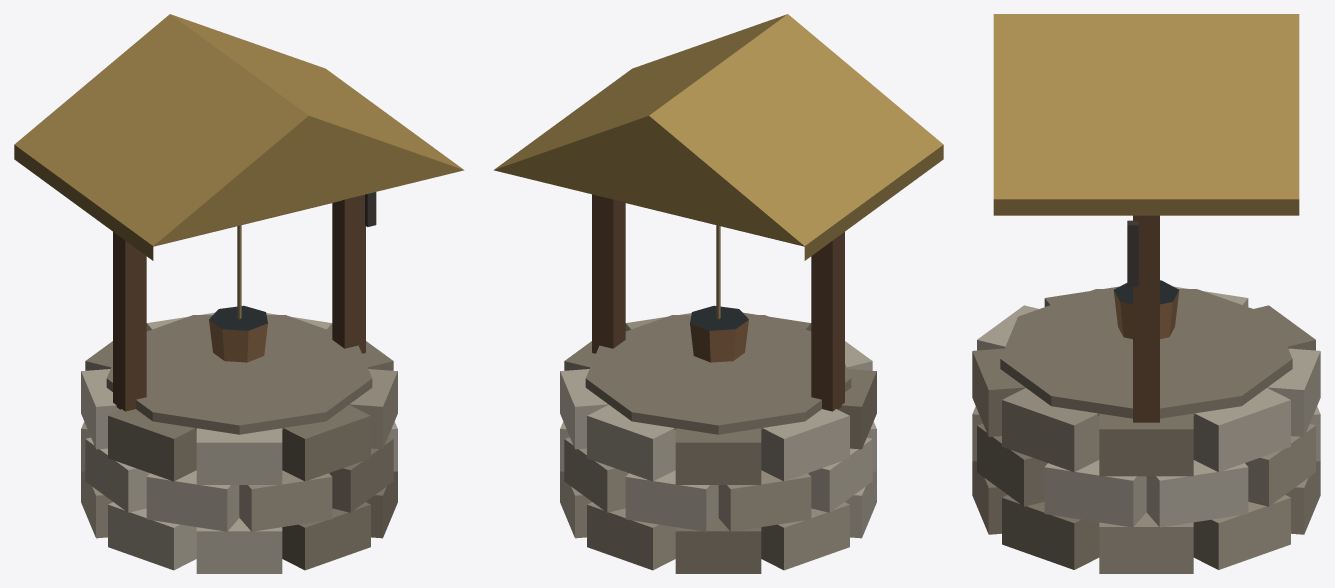
File: well.glb
3 renders of one model, left to right at view 1: azimuth 30°, elevation 25°; view 2: azimuth 150°, elevation 25°; view 3: azimuth 270°, elevation 25°, orthographic. The views are drawn at different scales.
Visible parts, largest first — view 1: well; view 2: well; view 3: well.
Boxes of the visible parts, bbox=[...] form: well: bbox=[14, 14, 464, 573]; well: bbox=[493, 14, 943, 573]; well: bbox=[972, 14, 1320, 573].
Size of the model in its own units: 1.76 by 2.4 by 1.55.
